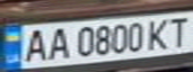0: (72, 24, 96, 57), (109, 21, 130, 55), (127, 19, 148, 53)
8: (93, 21, 115, 56)
A: (18, 26, 51, 63), (42, 25, 72, 61)
K: (145, 16, 175, 51)
T: (163, 14, 193, 47)
